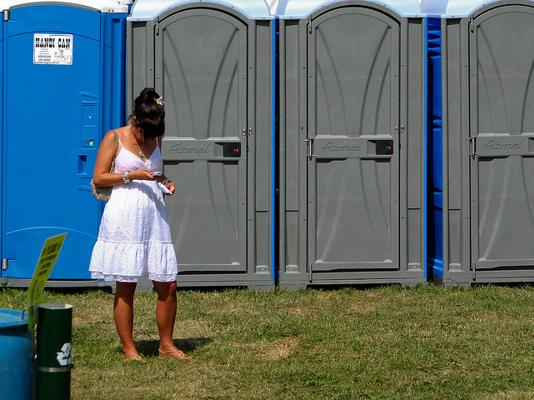person: (92, 88, 189, 363)
